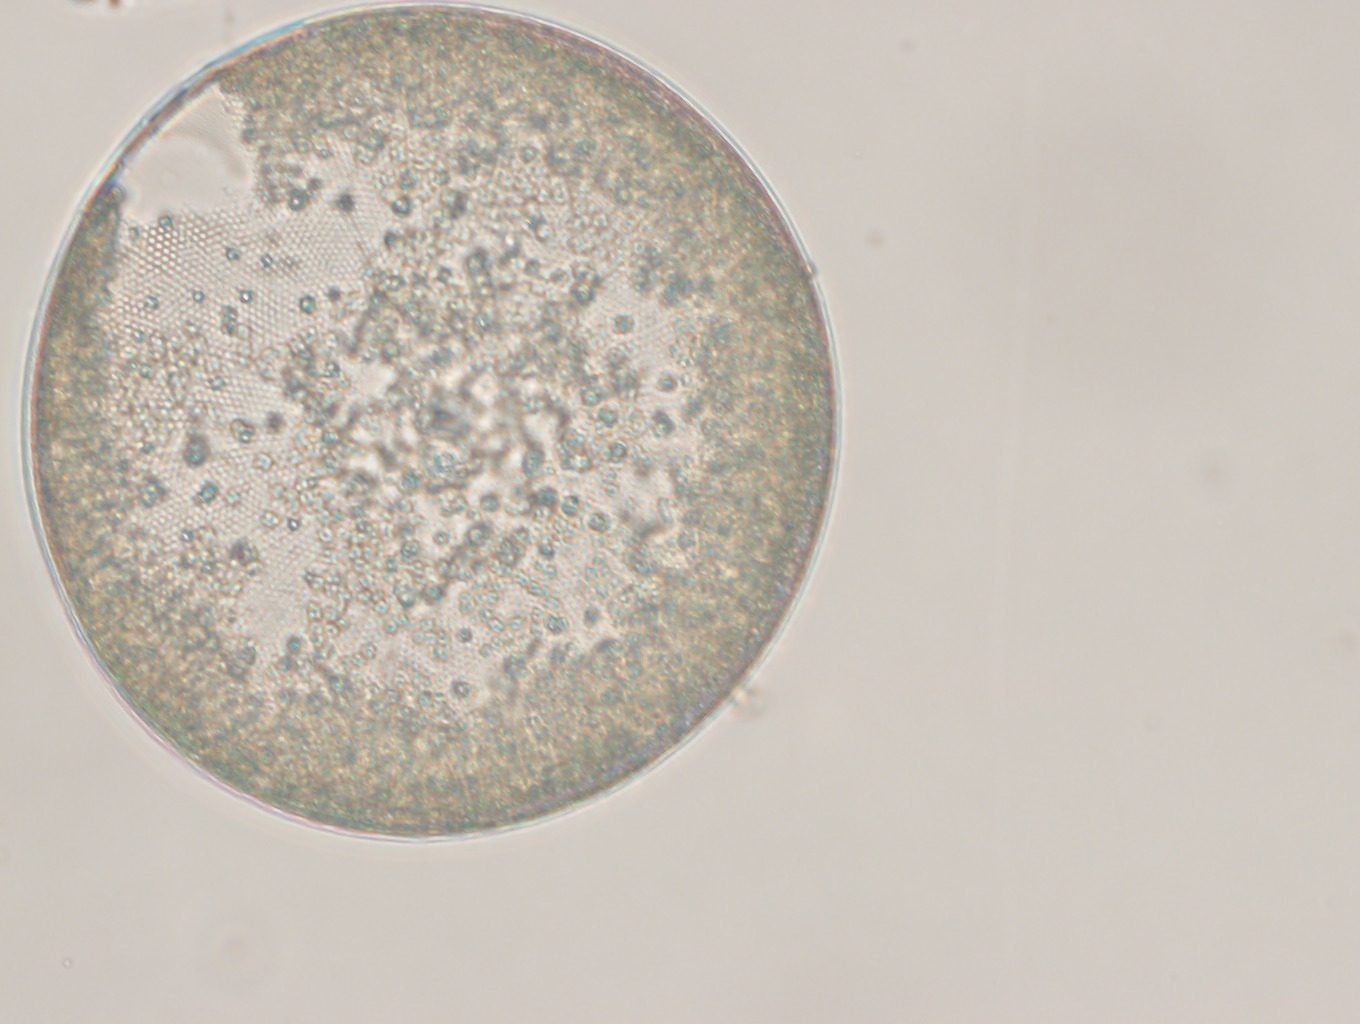coscinodiscus: (14, 1, 849, 844)
